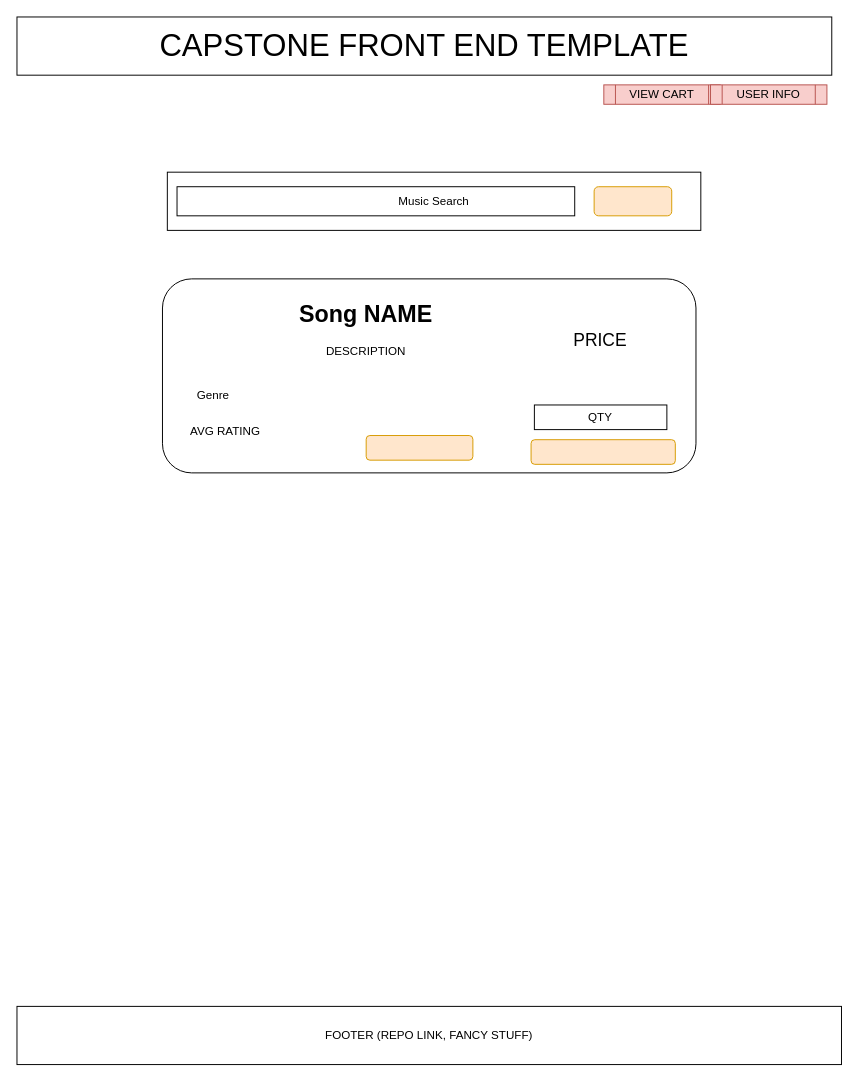
Image size: 858x1082. Some labels were removed from this diagram. Each missing label, with the centre of its shape:
"ADD TO CART" belongs at (x=602, y=451).
"Add to playlist" belongs at (x=419, y=447).
"SEARCH" belongs at (x=632, y=201).
